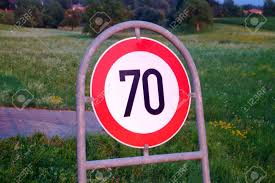Speed_limit_70km: (90, 37, 192, 149)
